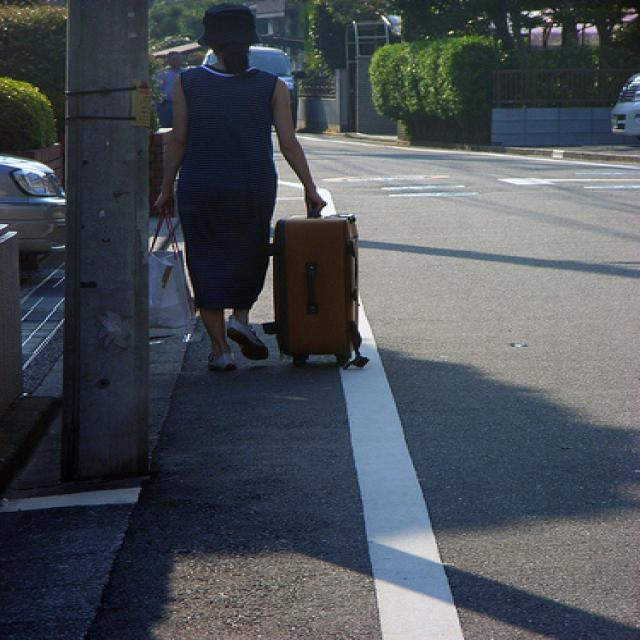Vehicle: (0, 156, 68, 250), (202, 48, 294, 90), (610, 69, 640, 138), (609, 71, 640, 136)
